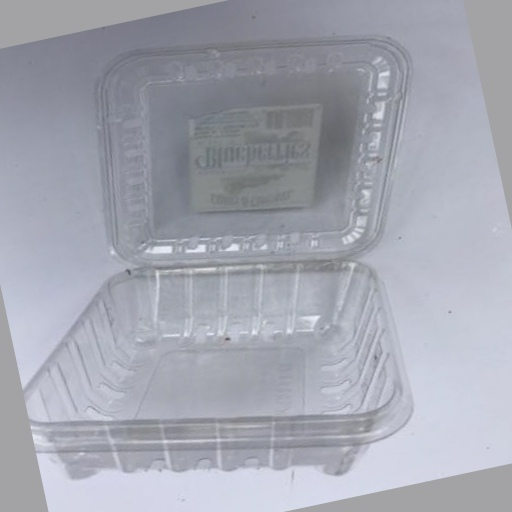Plastic_4: (25, 41, 414, 477)
